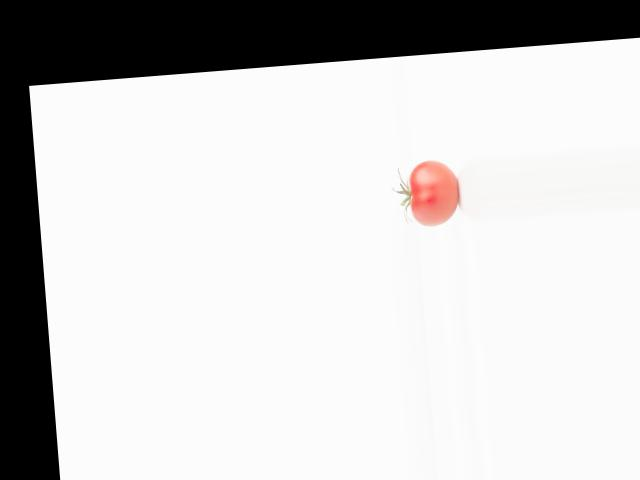tomato: (406, 158, 460, 227)
